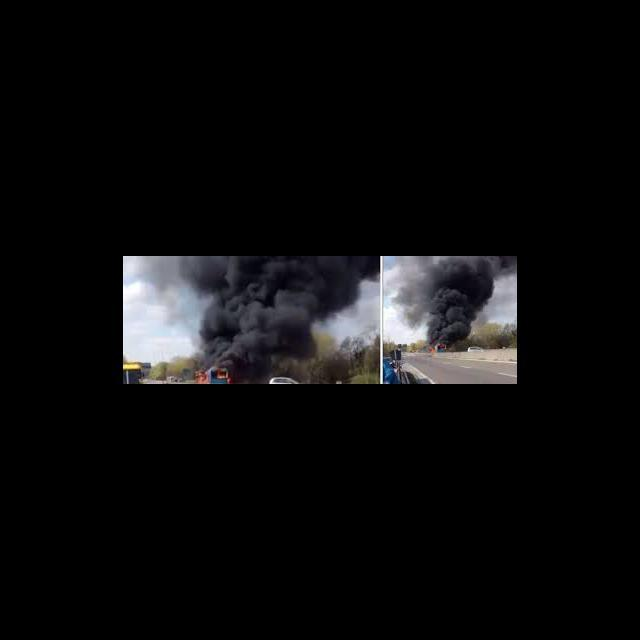Fire: (194, 371, 208, 384), (217, 371, 226, 378), (227, 377, 233, 383), (430, 347, 436, 353), (440, 344, 446, 348)
Smoke: (124, 256, 382, 294), (190, 296, 312, 358), (398, 256, 497, 308), (401, 308, 475, 328), (310, 296, 360, 318), (427, 329, 468, 340)
